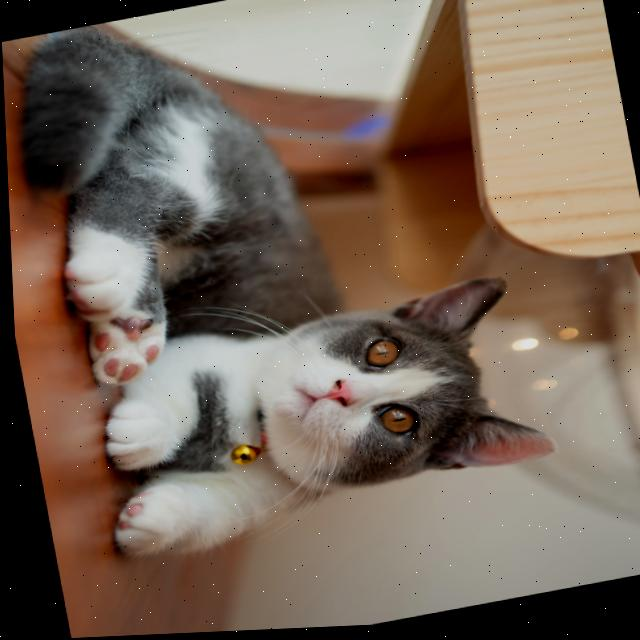Munchkin: (0, 0, 565, 582)
